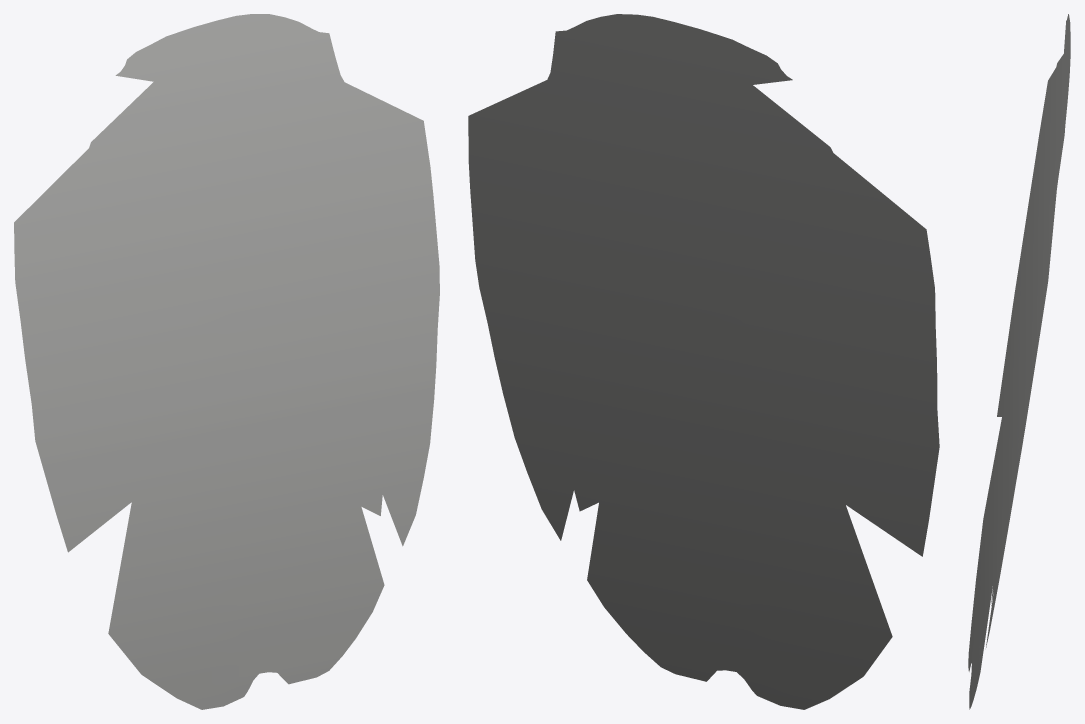
Rendered from SM_MirrorPlane2_LOD0.fbx.
The picture shows the model from 3 angles, left to right: view 1: azimuth 30°, elevation 25°; view 2: azimuth 150°, elevation 25°; view 3: azimuth 270°, elevation 25°; orthographic projection. The views are drawn at different scales.
Parts seen in each view (by area): view 1: SM_MirrorPlane2_LOD0; view 2: SM_MirrorPlane2_LOD0; view 3: SM_MirrorPlane2_LOD0.
Part boxes in pixels (left/top/right/bottom): SM_MirrorPlane2_LOD0: left=14, top=14, right=439, bottom=709; SM_MirrorPlane2_LOD0: left=468, top=14, right=939, bottom=709; SM_MirrorPlane2_LOD0: left=968, top=14, right=1070, bottom=709.
Size of the model in its own units: 2.91 by 4.25 by 0.6111.
